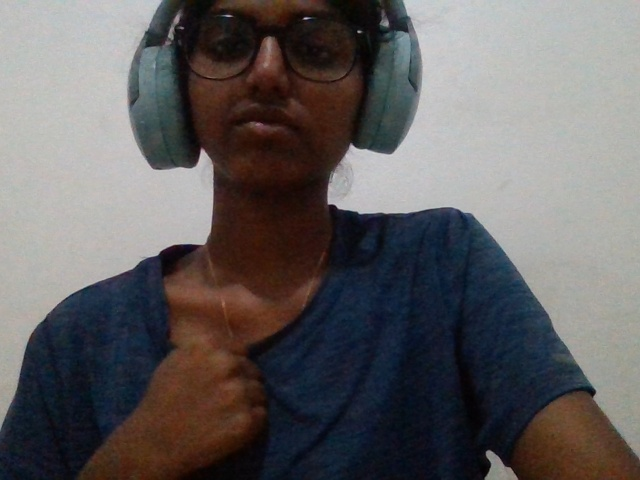Sorry: (116, 313, 301, 480)
